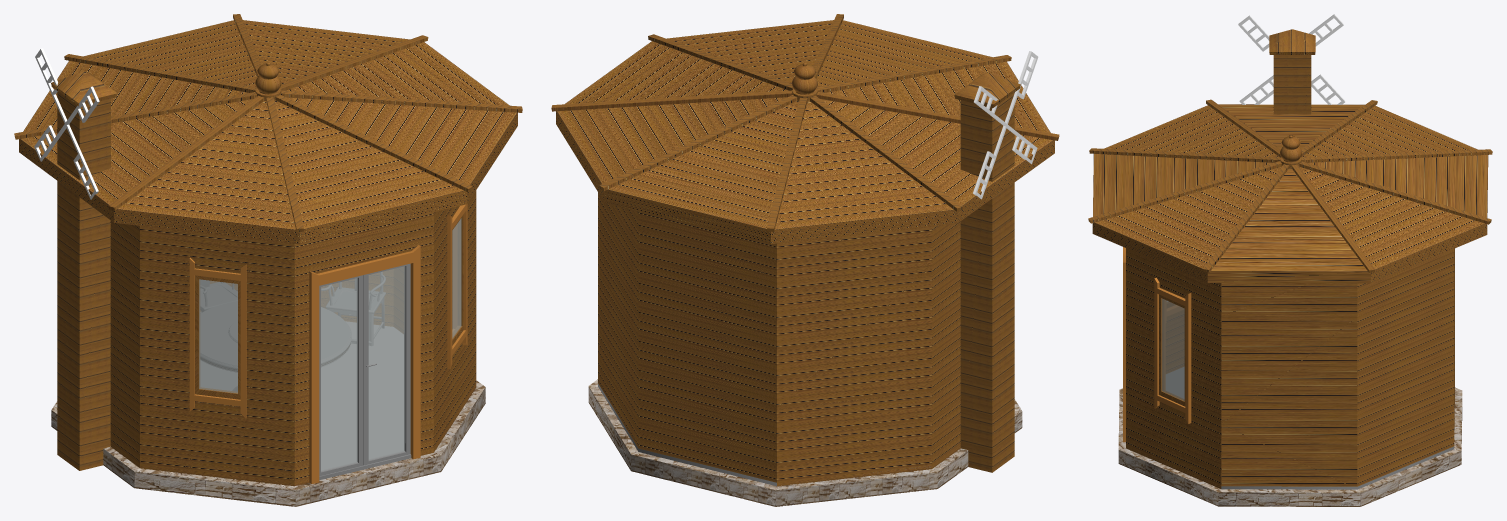
File: 体验房3.fbx
3 views of the same model, side by side, from view 1: azimuth 30°, elevation 25°; view 2: azimuth 150°, elevation 25°; view 3: azimuth 270°, elevation 25° (orthographic). The views are drawn at different scales.
Visible parts, largest first — view 1: 对象652, NGon001, Box655, 图形044, 对象654, 对象653, 对象656, 对象655, 图形041, Box656, Line02, 图形043 (+10 smaller); view 2: NGon001, 对象652, Box655, 图形044, 对象653, Line148, 对象661, 对象654; view 3: NGon001, 对象652, 图形044, 对象653, Box655, Box657, 对象659, 对象654, Line148, 对象661, 对象660, 图形041.
Part boxes in pixels (box(x1,y1,x2,y2)): 对象652: box(19, 20, 517, 244); NGon001: box(110, 190, 476, 486); Box655: box(57, 91, 110, 470); 图形044: box(14, 14, 522, 231); 对象654: box(200, 321, 411, 480); 对象653: box(51, 380, 485, 506); 对象656: box(368, 266, 405, 459); 对象655: box(321, 278, 357, 471); 图形041: box(309, 245, 420, 484); Box656: box(199, 279, 237, 393); Line02: box(200, 301, 351, 372); 图形043: box(363, 263, 410, 465); NGon001: box(598, 192, 960, 486); 对象652: box(556, 20, 1054, 244); Box655: box(960, 92, 1014, 472); 图形044: box(551, 14, 1059, 231); 对象653: box(588, 379, 1022, 506); Line148: box(973, 51, 1038, 199); 对象661: box(954, 72, 1020, 107); 对象654: box(598, 383, 929, 486); NGon001: box(1126, 248, 1454, 488); 对象652: box(1092, 104, 1488, 283); 图形044: box(1088, 99, 1492, 272); 对象653: box(1118, 387, 1462, 506); Box655: box(1273, 55, 1311, 114); Box657: box(1161, 298, 1184, 400); 对象659: box(1154, 277, 1191, 423); 对象654: box(1166, 367, 1454, 489); Line148: box(1238, 14, 1345, 104); 对象661: box(1269, 29, 1315, 54); 对象660: box(1159, 294, 1185, 406); 图形041: box(1123, 247, 1125, 442).
Size of the model in its own units: 24.76 by 22.74 by 24.76.
